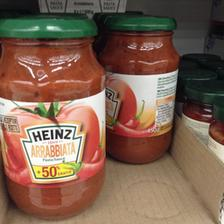Tomatensauce: (0, 14, 106, 218), (100, 13, 180, 163)
